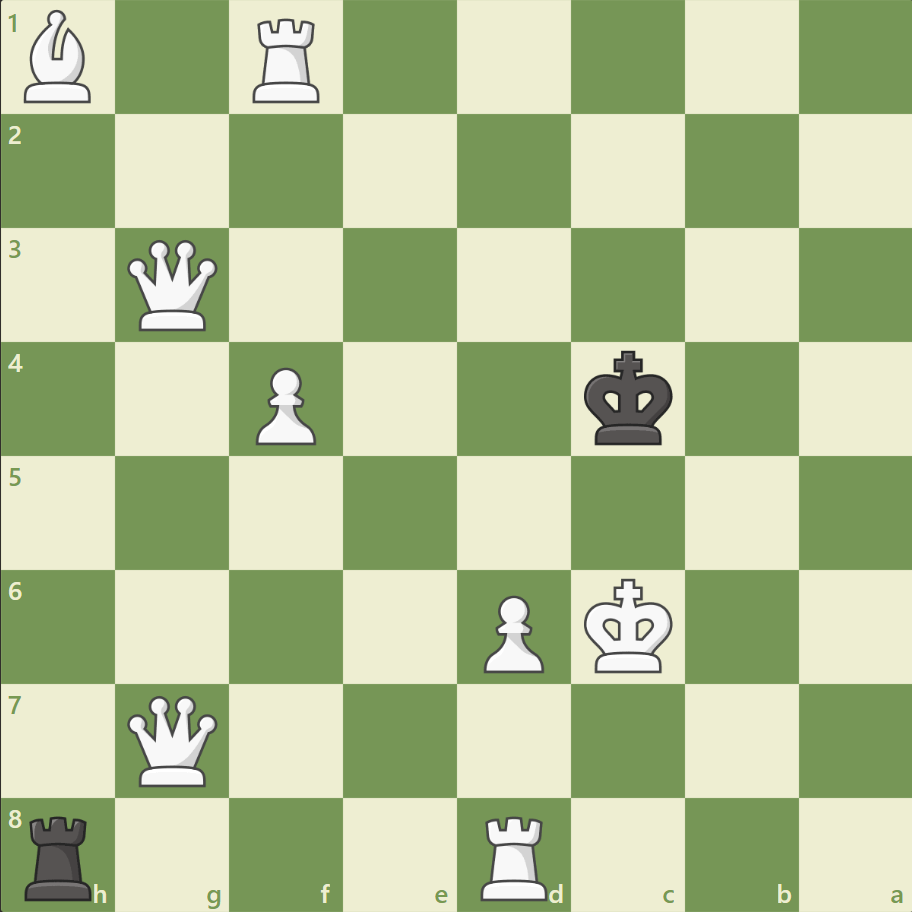B: (17, 6, 101, 109)
K: (579, 571, 679, 679)
P: (474, 586, 549, 677), (247, 359, 322, 450)
Q: (124, 690, 223, 789), (124, 236, 223, 335)
R: (473, 806, 556, 904), (246, 12, 329, 109)
k: (579, 344, 679, 452)
r: (19, 806, 102, 904)
